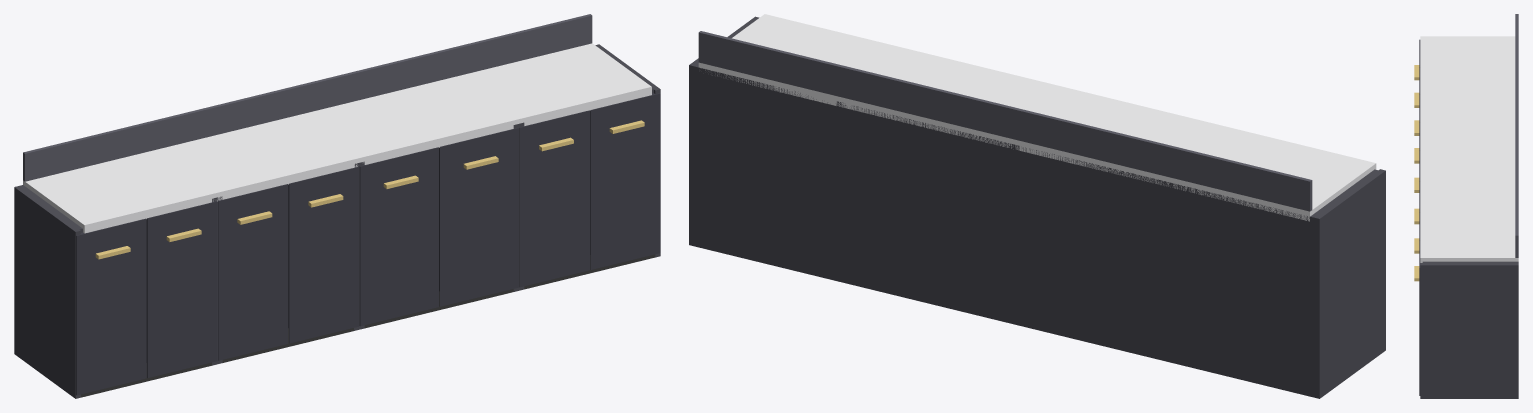
3 renders of one model, left to right at view 1: azimuth 30°, elevation 25°; view 2: azimuth 150°, elevation 25°; view 3: azimuth 270°, elevation 25°, orthographic. The views are drawn at different scales.
Visible parts, largest first — view 1: Countertop, Backsplash, Lower_Cabinet_Sink_Door_Right, Lower_Cabinet_Sink_Door_Left, Lower_Cabinet_2_Door_Right, Lower_Cabinet_1_Door_Right, Lower_Cabinet_1_Door_Left, Lower_Cabinet_4_Door_Right, Lower_Cabinet_2_Door_Left, Lower_Cabinet_4_Door_Left, Lower_Cabinet_1_Left_Side, Lower_Cabinet_1_Back (+1 smaller); view 2: Lower_Cabinet_Sink_Back, Lower_Cabinet_1_Back, Countertop, Lower_Cabinet_4_Back, Lower_Cabinet_2_Back, Backsplash, Lower_Cabinet_1_Left_Side, Lower_Cabinet_2_Right_Side, Lower_Cabinet_Sink_Right_Side, Lower_Cabinet_4_Left_Side, Lower_Cabinet_4_Right_Side, Lower_Cabinet_1_Right_Side; view 3: Countertop, Lower_Cabinet_4_Right_Side, Backsplash, Lower_Cabinet_4_Back, Lower_Cabinet_4_Door_Right, Lower_Cabinet_4_Top.
Part boxes in pixels (bbox=[...]): Countertop: bbox=[23, 43, 651, 233]; Backsplash: bbox=[23, 14, 592, 181]; Lower_Cabinet_Sink_Door_Right: bbox=[439, 127, 518, 306]; Lower_Cabinet_Sink_Door_Left: bbox=[359, 147, 438, 326]; Lower_Cabinet_2_Door_Right: bbox=[288, 166, 359, 343]; Lower_Cabinet_1_Door_Right: bbox=[146, 201, 217, 378]; Lower_Cabinet_1_Door_Left: bbox=[76, 218, 146, 395]; Lower_Cabinet_4_Door_Right: bbox=[590, 93, 660, 269]; Lower_Cabinet_2_Door_Left: bbox=[218, 184, 288, 360]; Lower_Cabinet_4_Door_Left: bbox=[519, 110, 589, 287]; Lower_Cabinet_1_Left_Side: bbox=[16, 186, 80, 398]; Lower_Cabinet_1_Back: bbox=[14, 185, 25, 355]; Lower_Cabinet_Sink_Back: bbox=[842, 106, 1013, 323]; Lower_Cabinet_1_Back: bbox=[1166, 182, 1322, 398]; Countertop: bbox=[698, 14, 1376, 221]; Lower_Cabinet_4_Back: bbox=[689, 63, 841, 282]; Lower_Cabinet_2_Back: bbox=[1018, 146, 1166, 361]; Backsplash: bbox=[698, 31, 1312, 211]; Lower_Cabinet_1_Left_Side: bbox=[1314, 169, 1385, 398]; Lower_Cabinet_2_Right_Side: bbox=[1014, 144, 1019, 325]; Lower_Cabinet_Sink_Right_Side: bbox=[842, 102, 847, 283]; Lower_Cabinet_4_Left_Side: bbox=[836, 101, 841, 281]; Lower_Cabinet_4_Right_Side: bbox=[689, 16, 759, 245]; Lower_Cabinet_1_Right_Side: bbox=[1166, 182, 1172, 362]; Countertop: bbox=[1420, 36, 1518, 262]; Lower_Cabinet_4_Right_Side: bbox=[1420, 263, 1518, 398]; Backsplash: bbox=[1515, 14, 1518, 257]; Lower_Cabinet_4_Back: bbox=[1513, 261, 1518, 398]; Lower_Cabinet_4_Door_Right: bbox=[1419, 240, 1420, 395]; Lower_Cabinet_4_Top: bbox=[1422, 261, 1513, 262].
Size of the model in its own units: 3.3 by 1.08 by 0.635.
